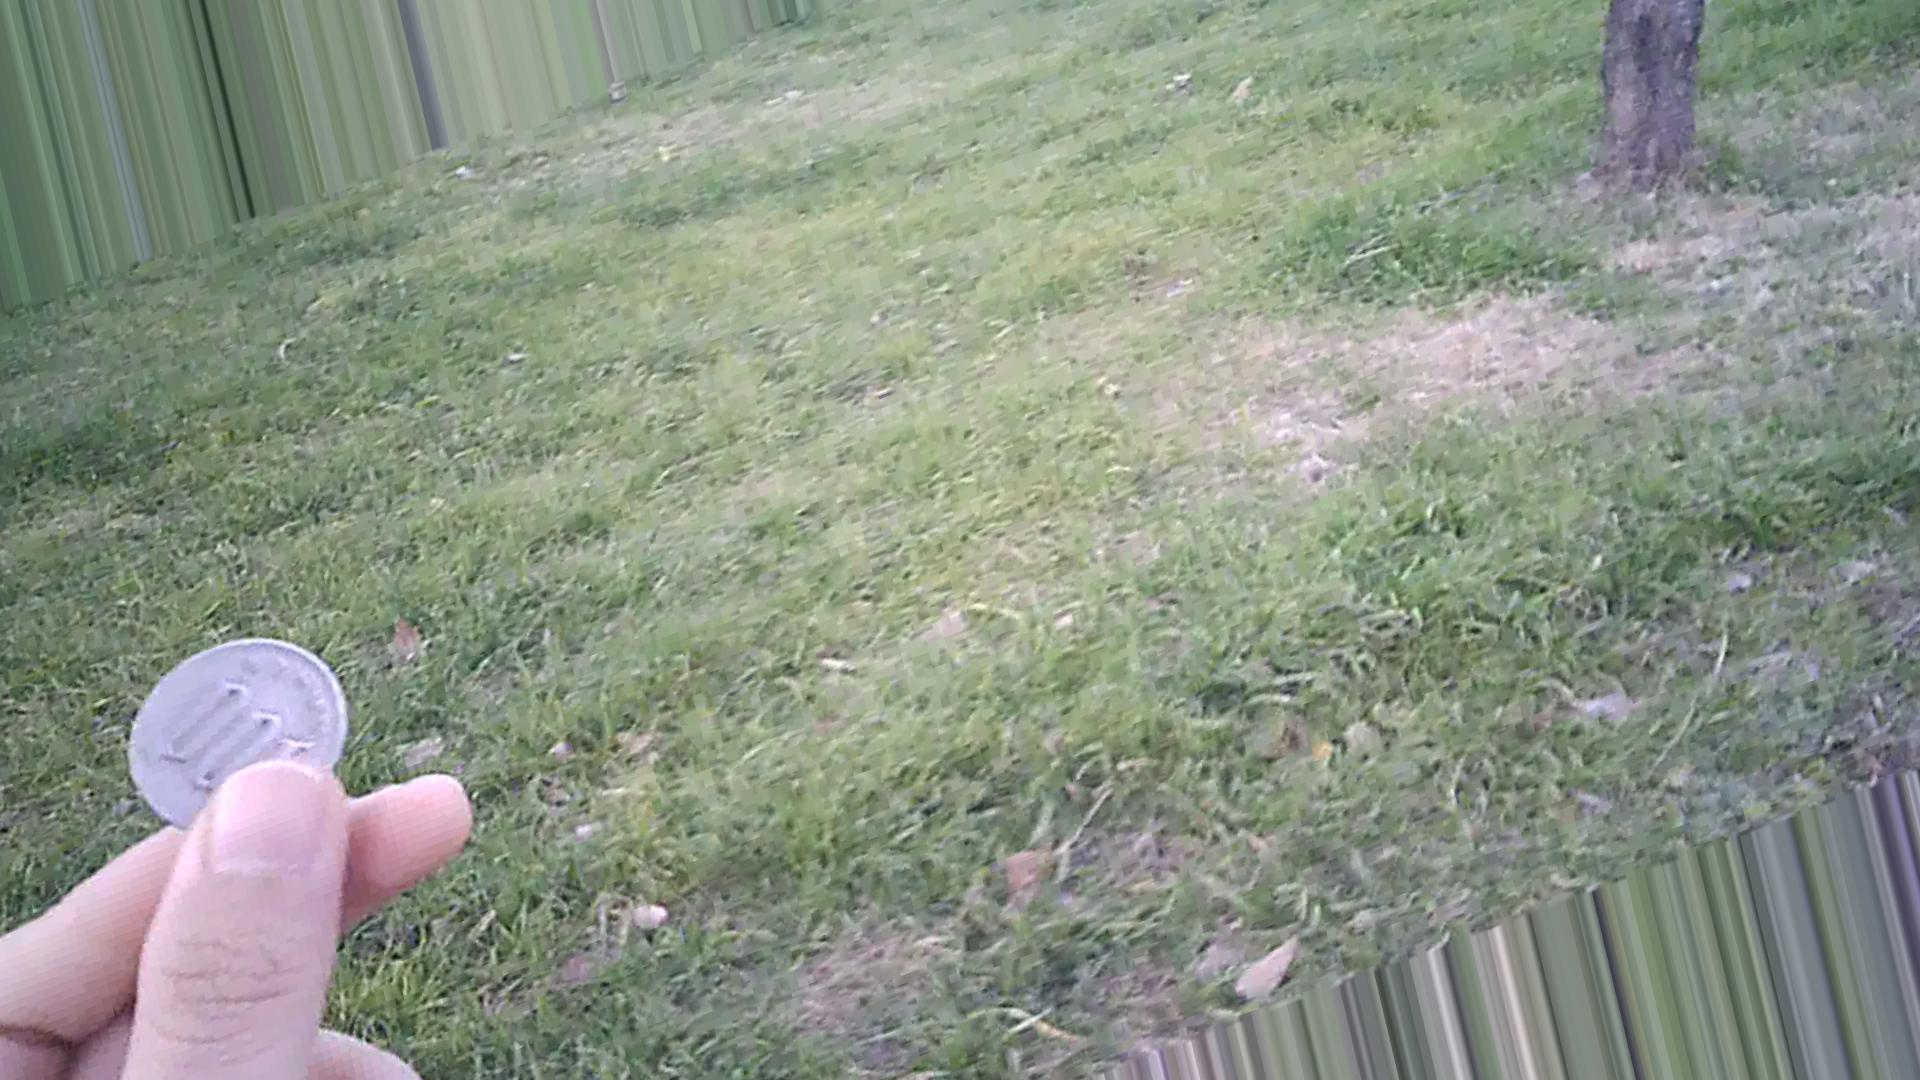100 Yen: (107, 633, 351, 819)
